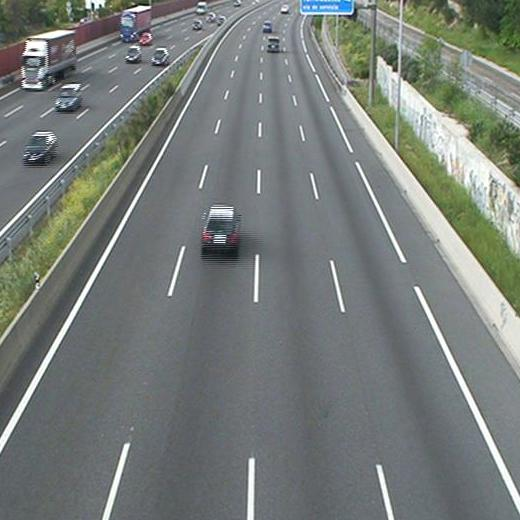car: (202, 208, 238, 248), (268, 37, 280, 51), (279, 4, 290, 13), (262, 21, 271, 32)
